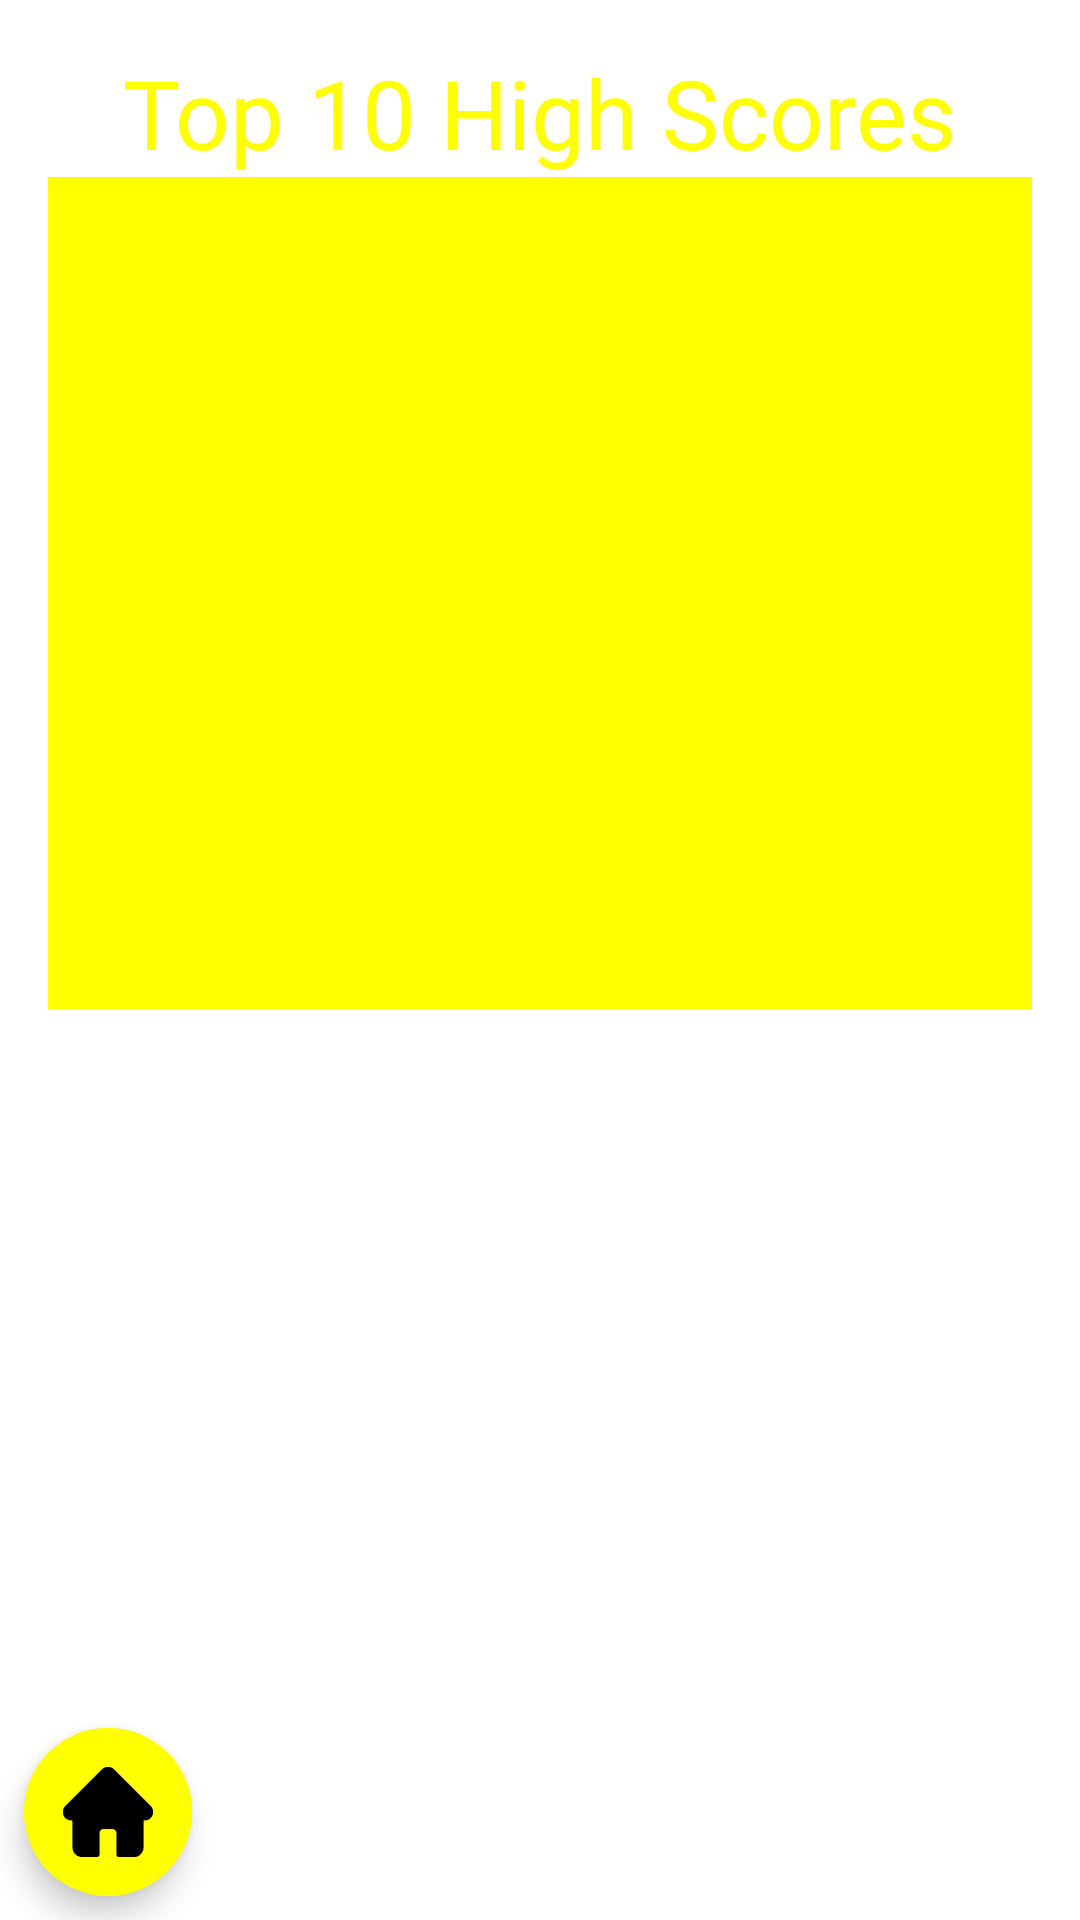

Icon bounding boxes for this 1080*1920 phone screenshot, format (x1, y1, x2, y2):
Home: (24, 1728, 192, 1896)
